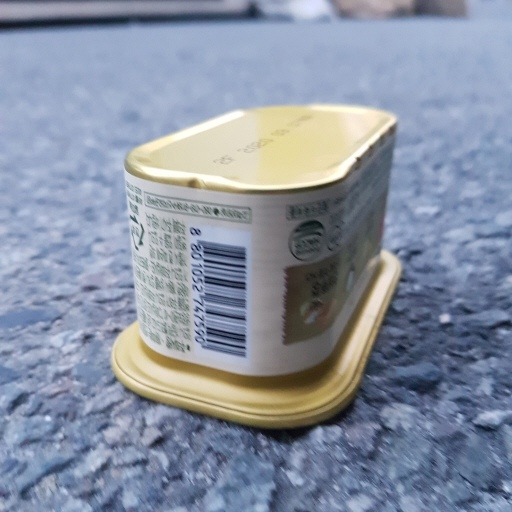Metal_2: (104, 105, 406, 426)
